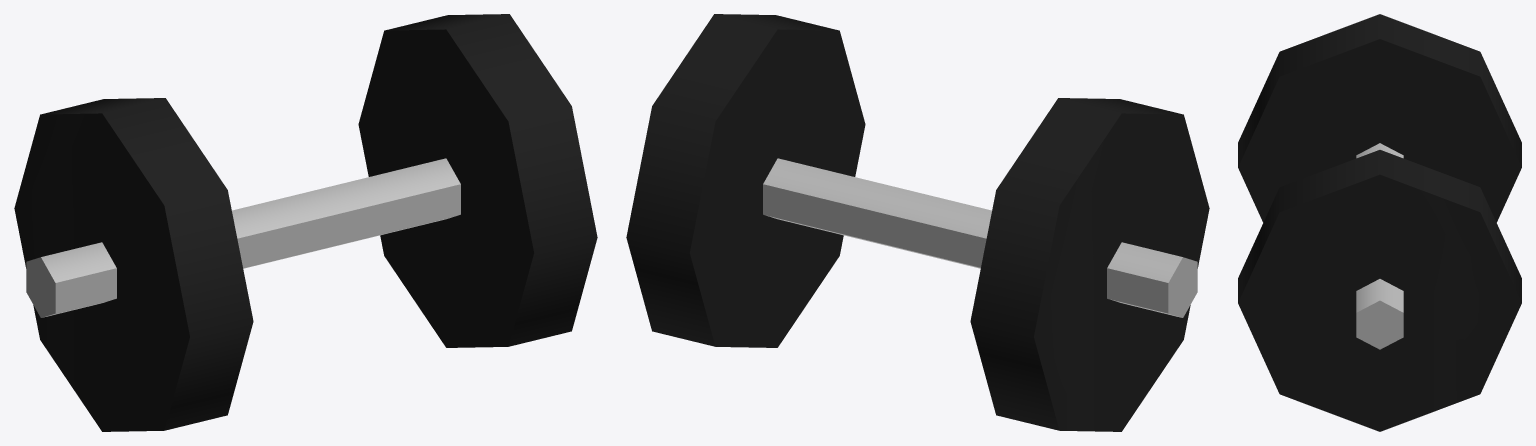
The model's file is Pesa.obj.
3 renders of one model, left to right at view 1: azimuth 30°, elevation 25°; view 2: azimuth 150°, elevation 25°; view 3: azimuth 270°, elevation 25°, orthographic. The views are drawn at different scales.
Visible parts, largest first — view 1: dumbbell_001; view 2: dumbbell_001; view 3: dumbbell_001.
Part boxes in pixels (x1,y1,x2,y2): dumbbell_001: [14, 14, 597, 431]; dumbbell_001: [626, 14, 1209, 431]; dumbbell_001: [1238, 14, 1521, 431].
Size of the model in its own units: 1.82 by 1.05 by 1.05.
Materials: 1 (1 with a texture image).
